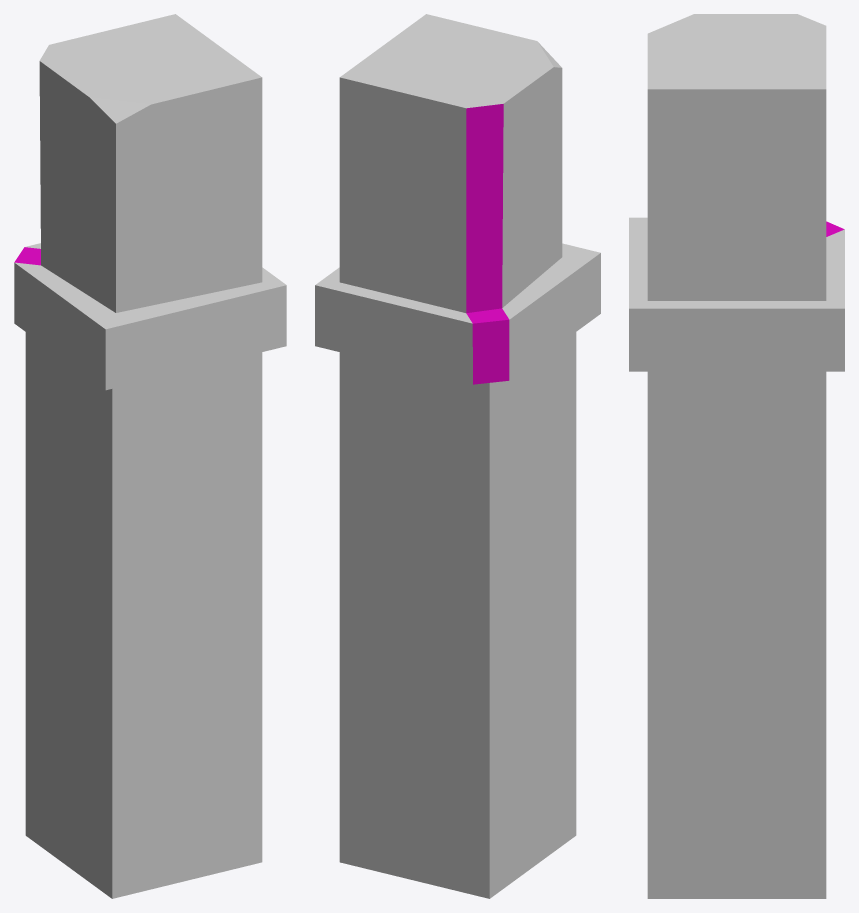
3 views of the same model, side by side, from view 1: azimuth 30°, elevation 25°; view 2: azimuth 150°, elevation 25°; view 3: azimuth 270°, elevation 25° (orthographic). The views are drawn at different scales.
Parts seen in each view (by area): view 1: Cube; view 2: Cube; view 3: Cube.
Boxes of the visible parts, x1=… form: Cube: x1=14, y1=14, x2=286, y2=898; Cube: x1=315, y1=14, x2=600, y2=898; Cube: x1=629, y1=14, x2=844, y2=898.
Size of the model in its own units: 242 by 1000 by 242.
